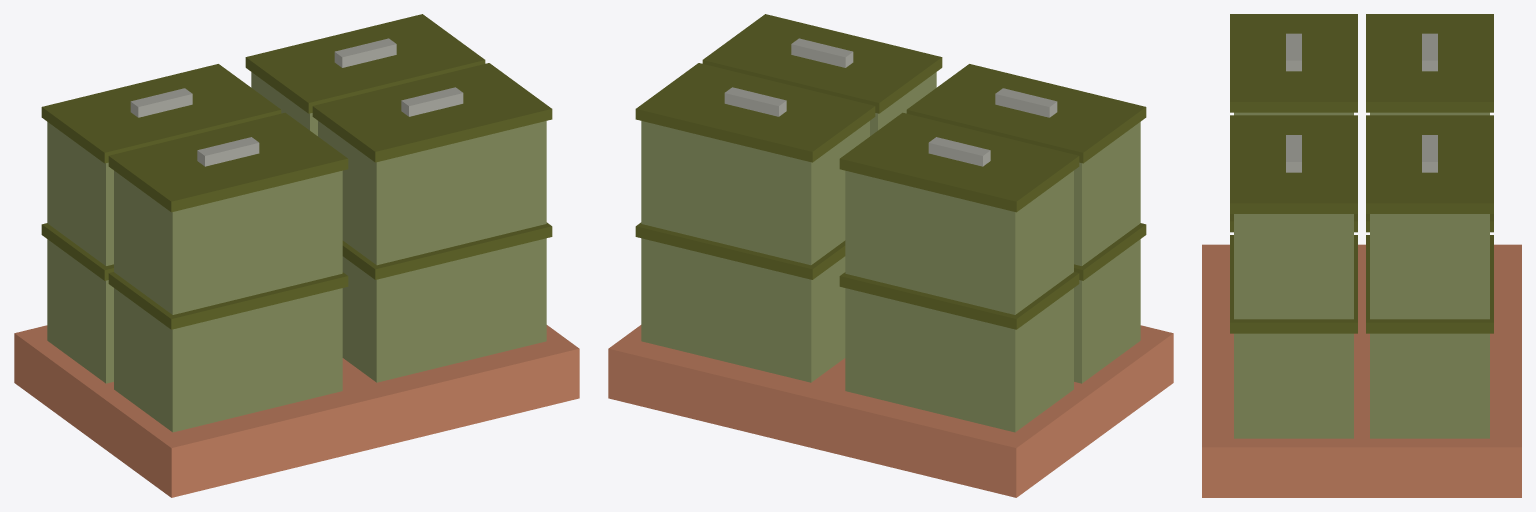
The model's file is SM_CajasMunicion_v3_Pale_LOD0.fbx.
The picture shows the model from 3 angles, left to right: view 1: azimuth 30°, elevation 25°; view 2: azimuth 150°, elevation 25°; view 3: azimuth 270°, elevation 25°; orthographic projection.
Parts seen in each view (by area): view 1: SM_farp_betera_v23_LOD0; view 2: SM_farp_betera_v23_LOD0; view 3: SM_farp_betera_v23_LOD0.
Part boxes in pixels (bbox=[...]): SM_farp_betera_v23_LOD0: bbox=[14, 14, 579, 497]; SM_farp_betera_v23_LOD0: bbox=[608, 14, 1173, 497]; SM_farp_betera_v23_LOD0: bbox=[1202, 14, 1521, 497].
Bounding box in the file's own units: 1.2 × 0.825 × 0.8.
